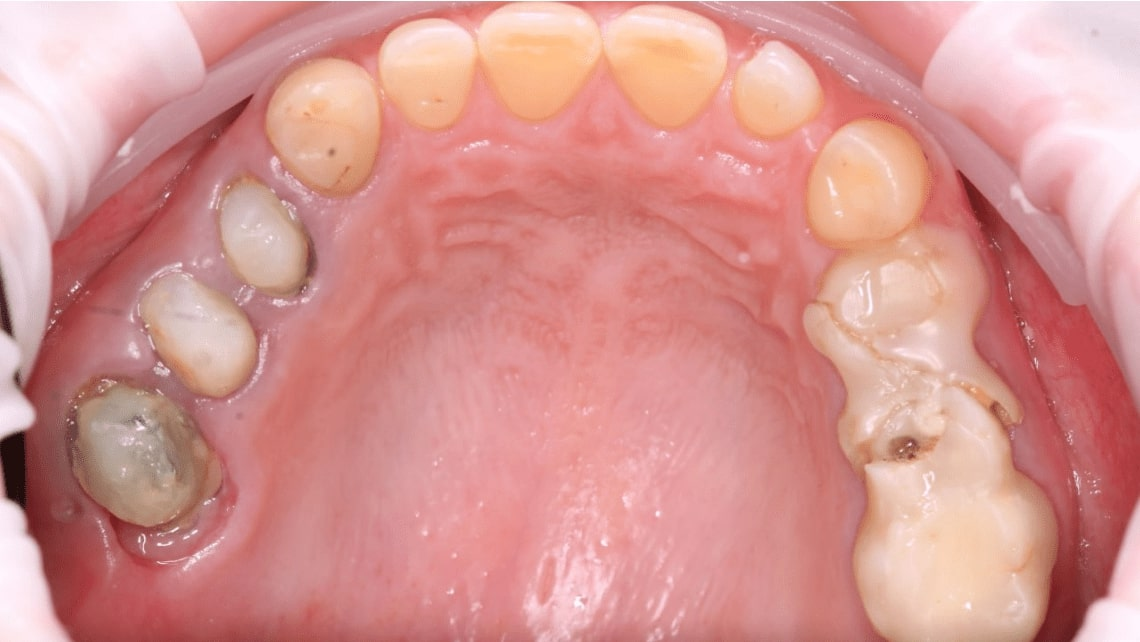ULCI_healthy: (607, 7, 725, 123)
ULC_healthy: (809, 120, 927, 240)
ULLI_healthy: (737, 39, 821, 133)
UR1BC_decay: (210, 168, 320, 300)
UR1M_decay: (64, 367, 222, 550)
UR2BC_decay: (141, 270, 267, 403)
URCI_healthy: (478, 3, 602, 116)
URC_decay: (266, 60, 379, 189)
URLI_healthy: (379, 19, 475, 124)
